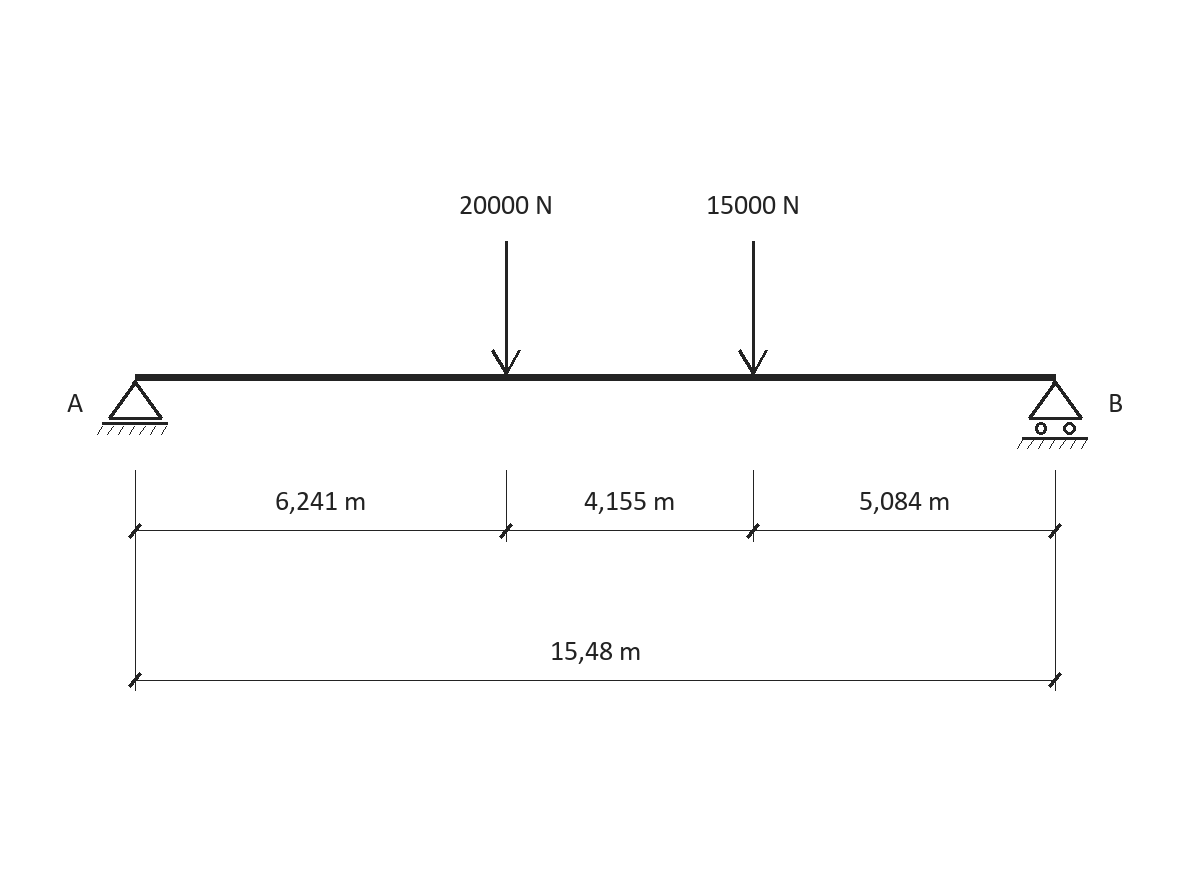pin_support: (97, 380, 168, 435)
point_load: (491, 241, 521, 375), (738, 241, 768, 375)
roller_support: (1017, 380, 1088, 449)
